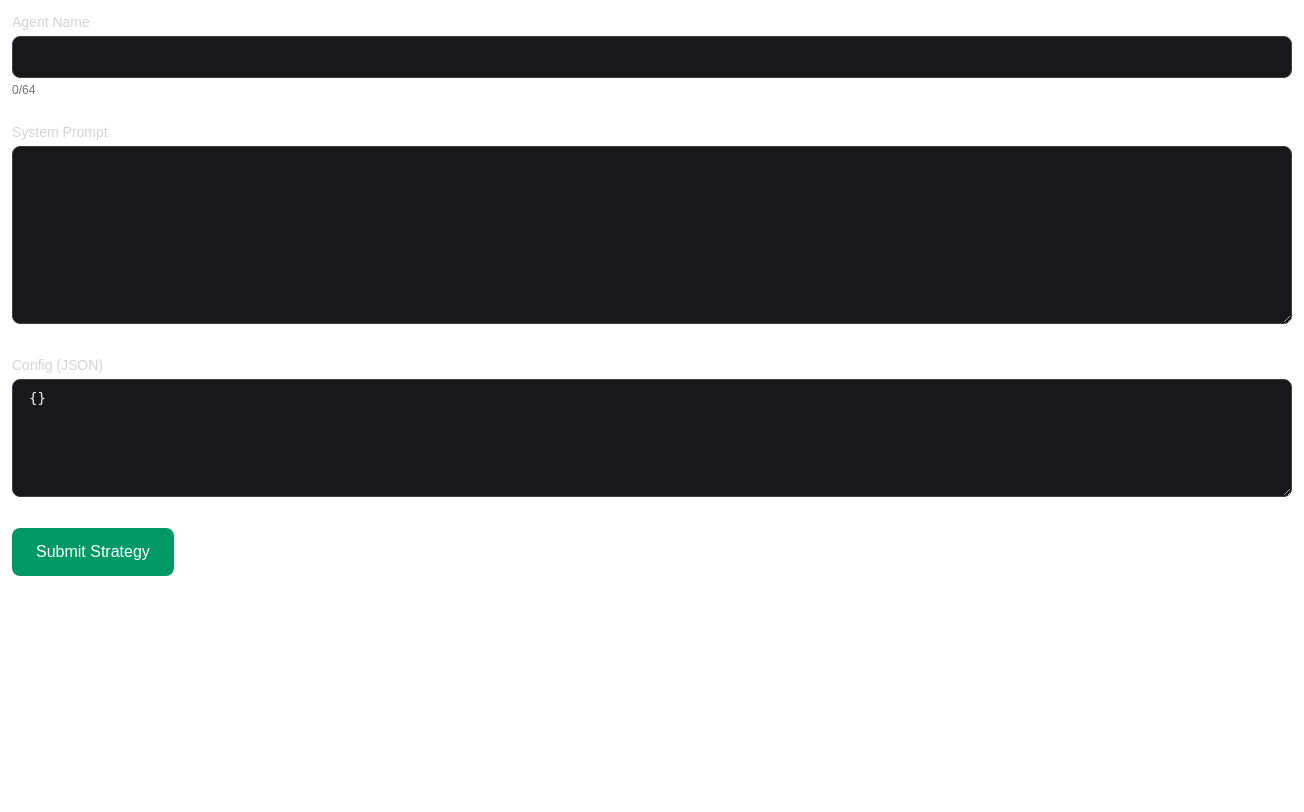
Scenario: SubmitForm › shows error when system prompt is empty
Type "TestBot" into the field labelled "Agent Name". click: (652, 57)
box: [12,36,1292,78]
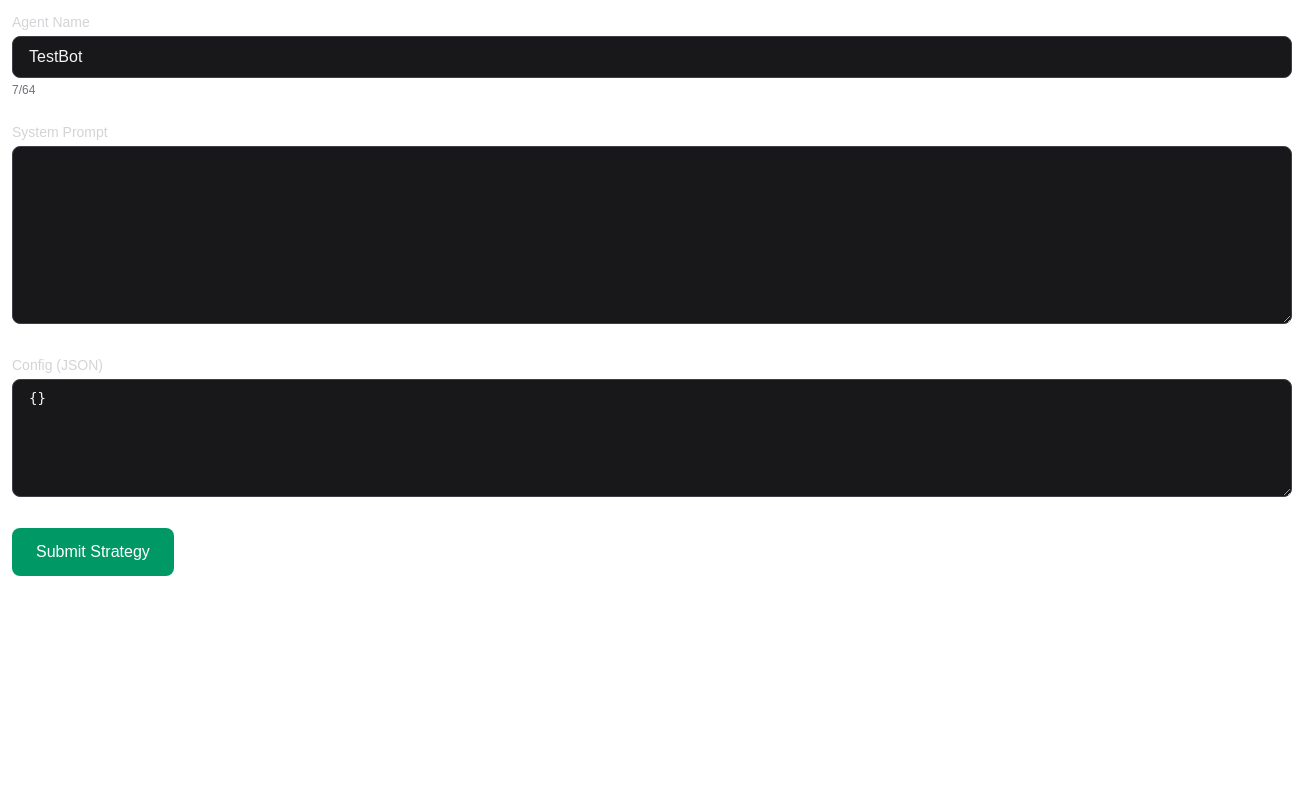
Submit the form "Agent Name 7/64 System Prompt Config (JSON) Submit Strategy"
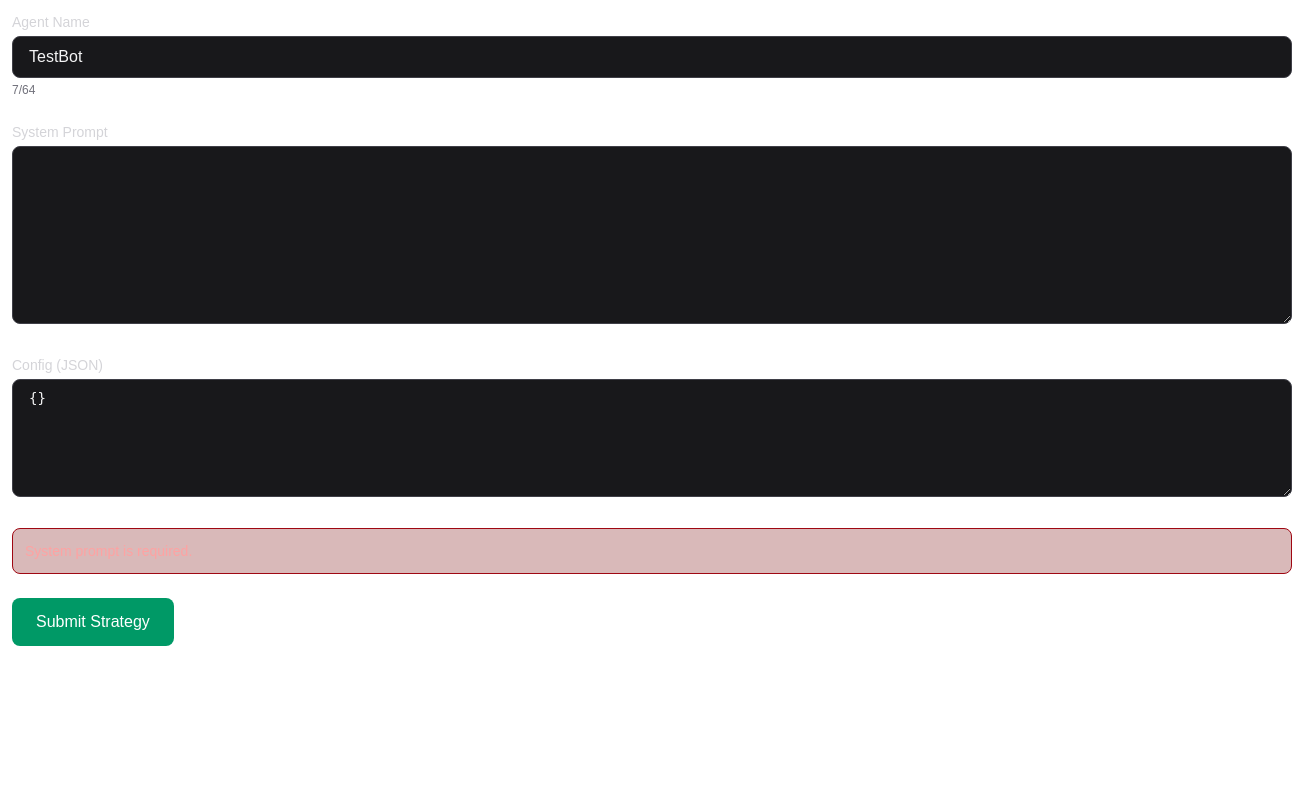
Expected: the message reads "System prompt is required.", [25,543,192,559]
